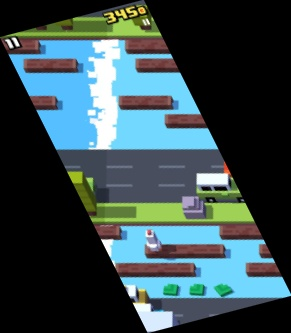car: (196, 172, 249, 203), (55, 171, 95, 197), (112, 285, 150, 308)
duck: (145, 229, 162, 255)
lilypad: (214, 282, 233, 298), (164, 283, 179, 297), (189, 283, 205, 296)
log: (115, 262, 197, 277), (144, 244, 225, 257), (124, 37, 179, 53), (23, 59, 79, 73), (220, 224, 267, 240), (164, 114, 216, 128), (134, 58, 186, 72), (118, 96, 173, 109), (1, 38, 40, 56), (78, 225, 122, 240), (247, 262, 291, 276), (19, 96, 57, 110), (259, 244, 291, 257)
rock: (180, 197, 206, 219)
tree: (65, 171, 97, 216), (130, 3, 151, 31), (55, 3, 74, 31), (30, 6, 50, 31)
truck: (118, 311, 180, 333)
water: (2, 39, 222, 150), (92, 224, 291, 298)
